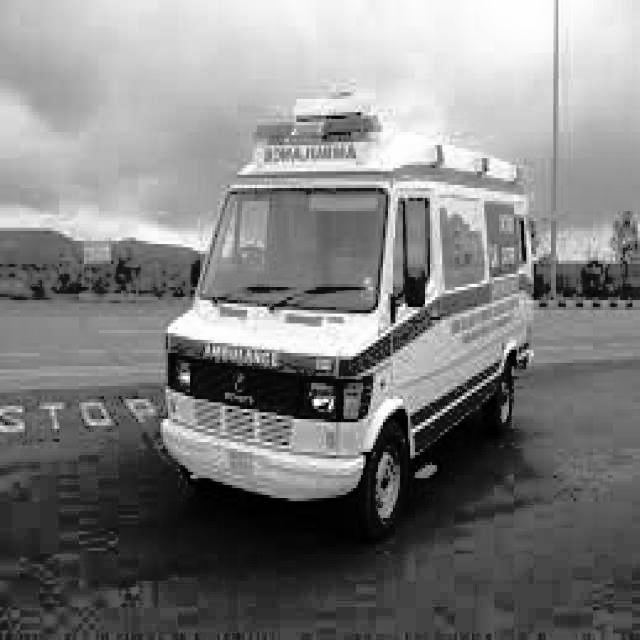LCV: (160, 117, 427, 502)
